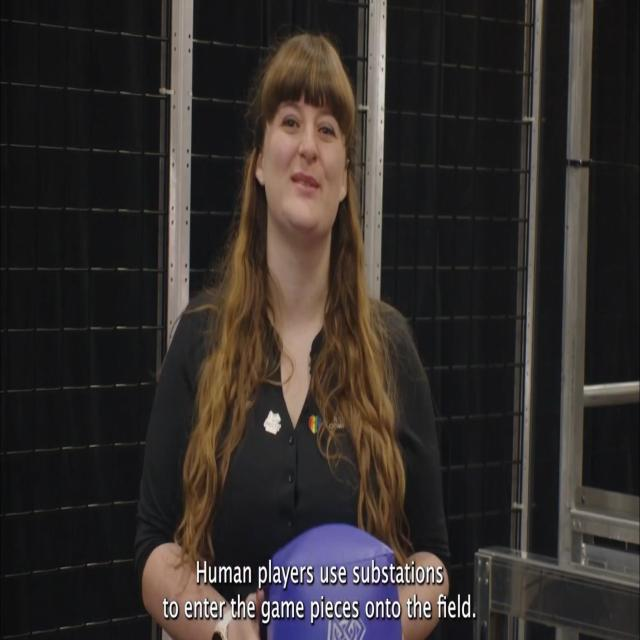frc_cube: (266, 526, 402, 639)
